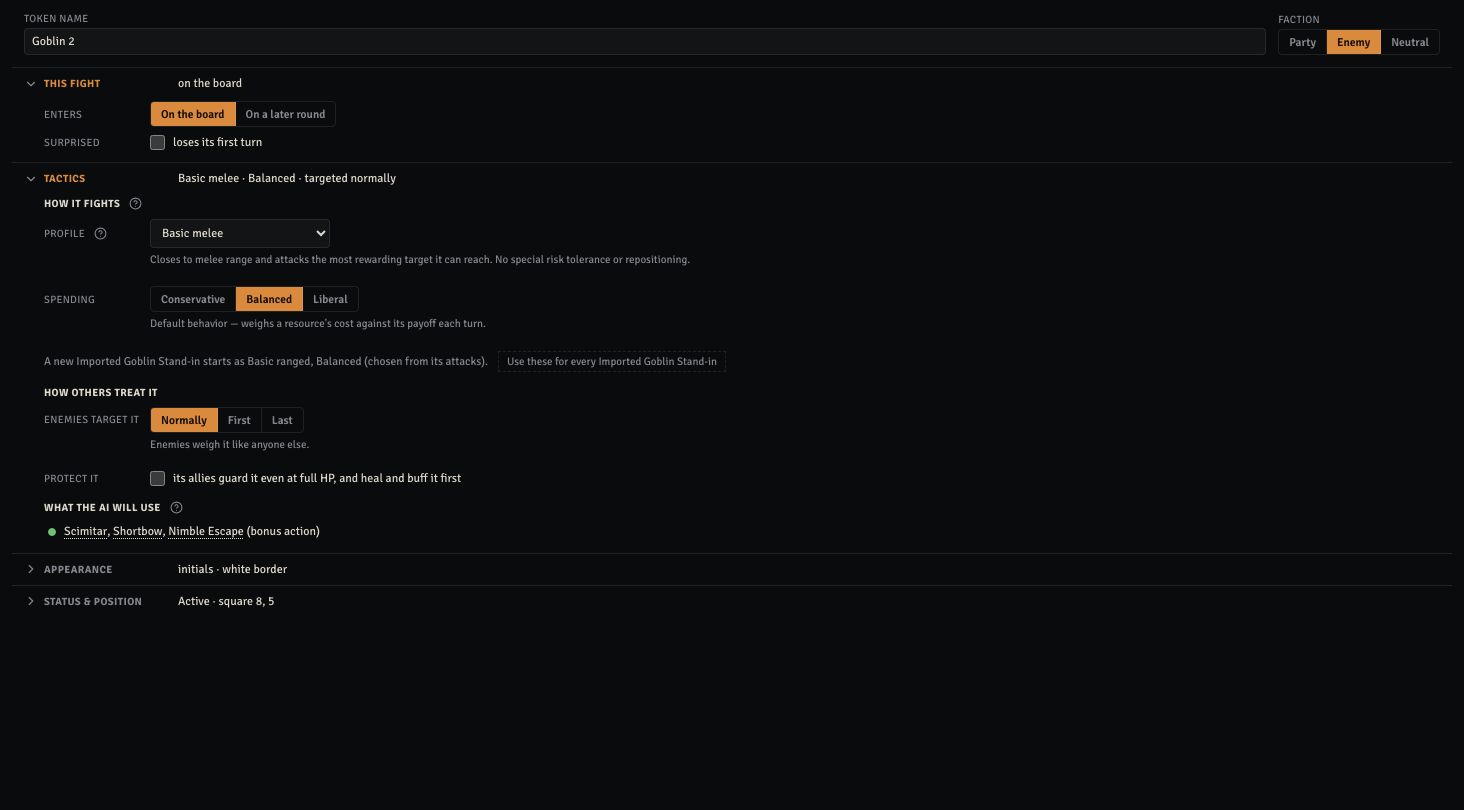
Scenario: Token › Tactics › says what a new token starts with and why, and Use these for every Goblin sets it and every goblin, in one step
The image size is (1464, 810).
Check: the text "A new Imported Goblin Stand-in starts as Basic ranged, Balanced (chosen from its attacks)." is shown, box [44,354,488,368]
Click the button "Use these for every Imported Goblin Stand-in".
click(612, 361)  # box [498,351,726,372]
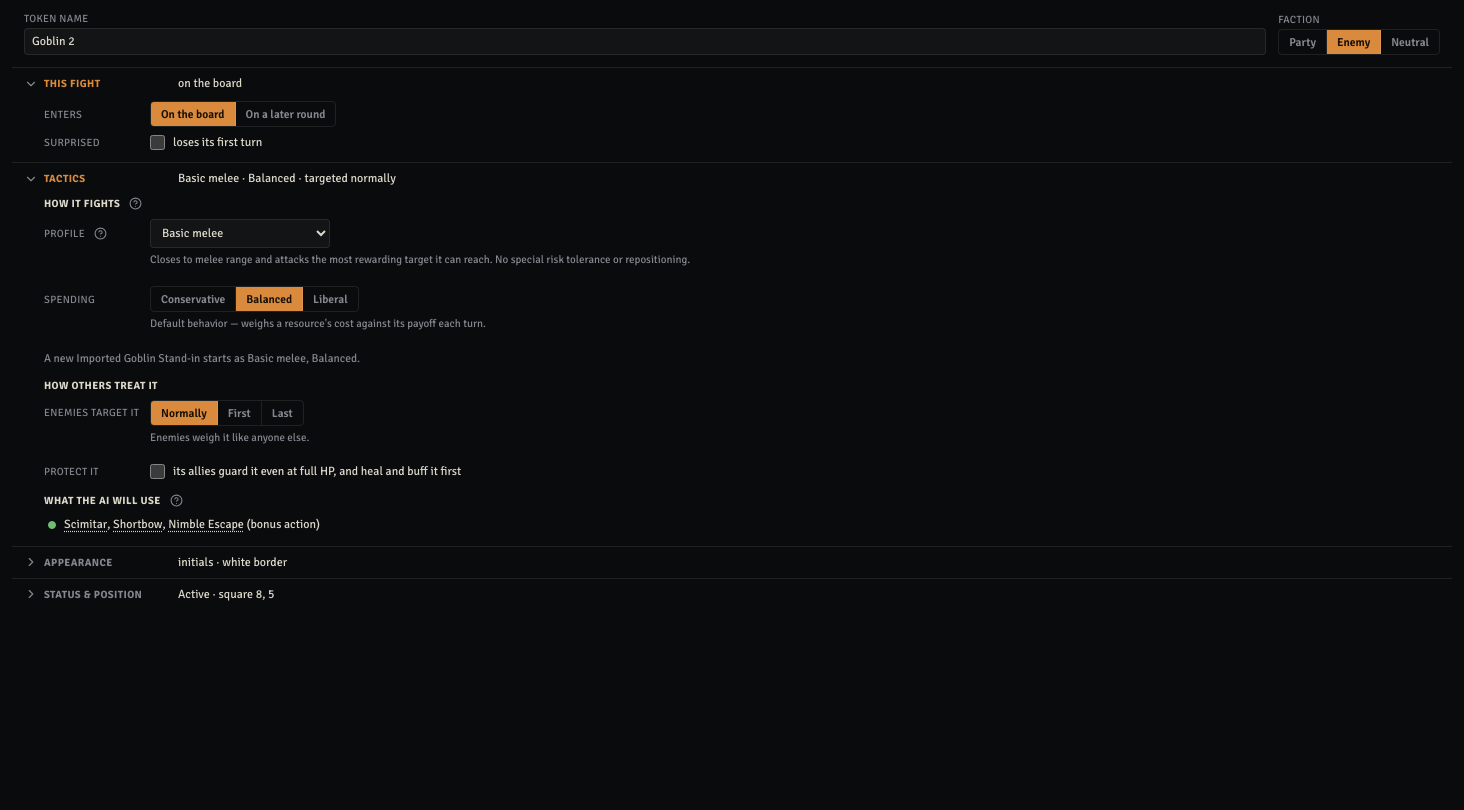
Check: the text "A new Imported Goblin Stand-in starts as Basic melee, Balanced." is shown, box [44,351,360,365]
Check: the button "Use these for every" is gone
